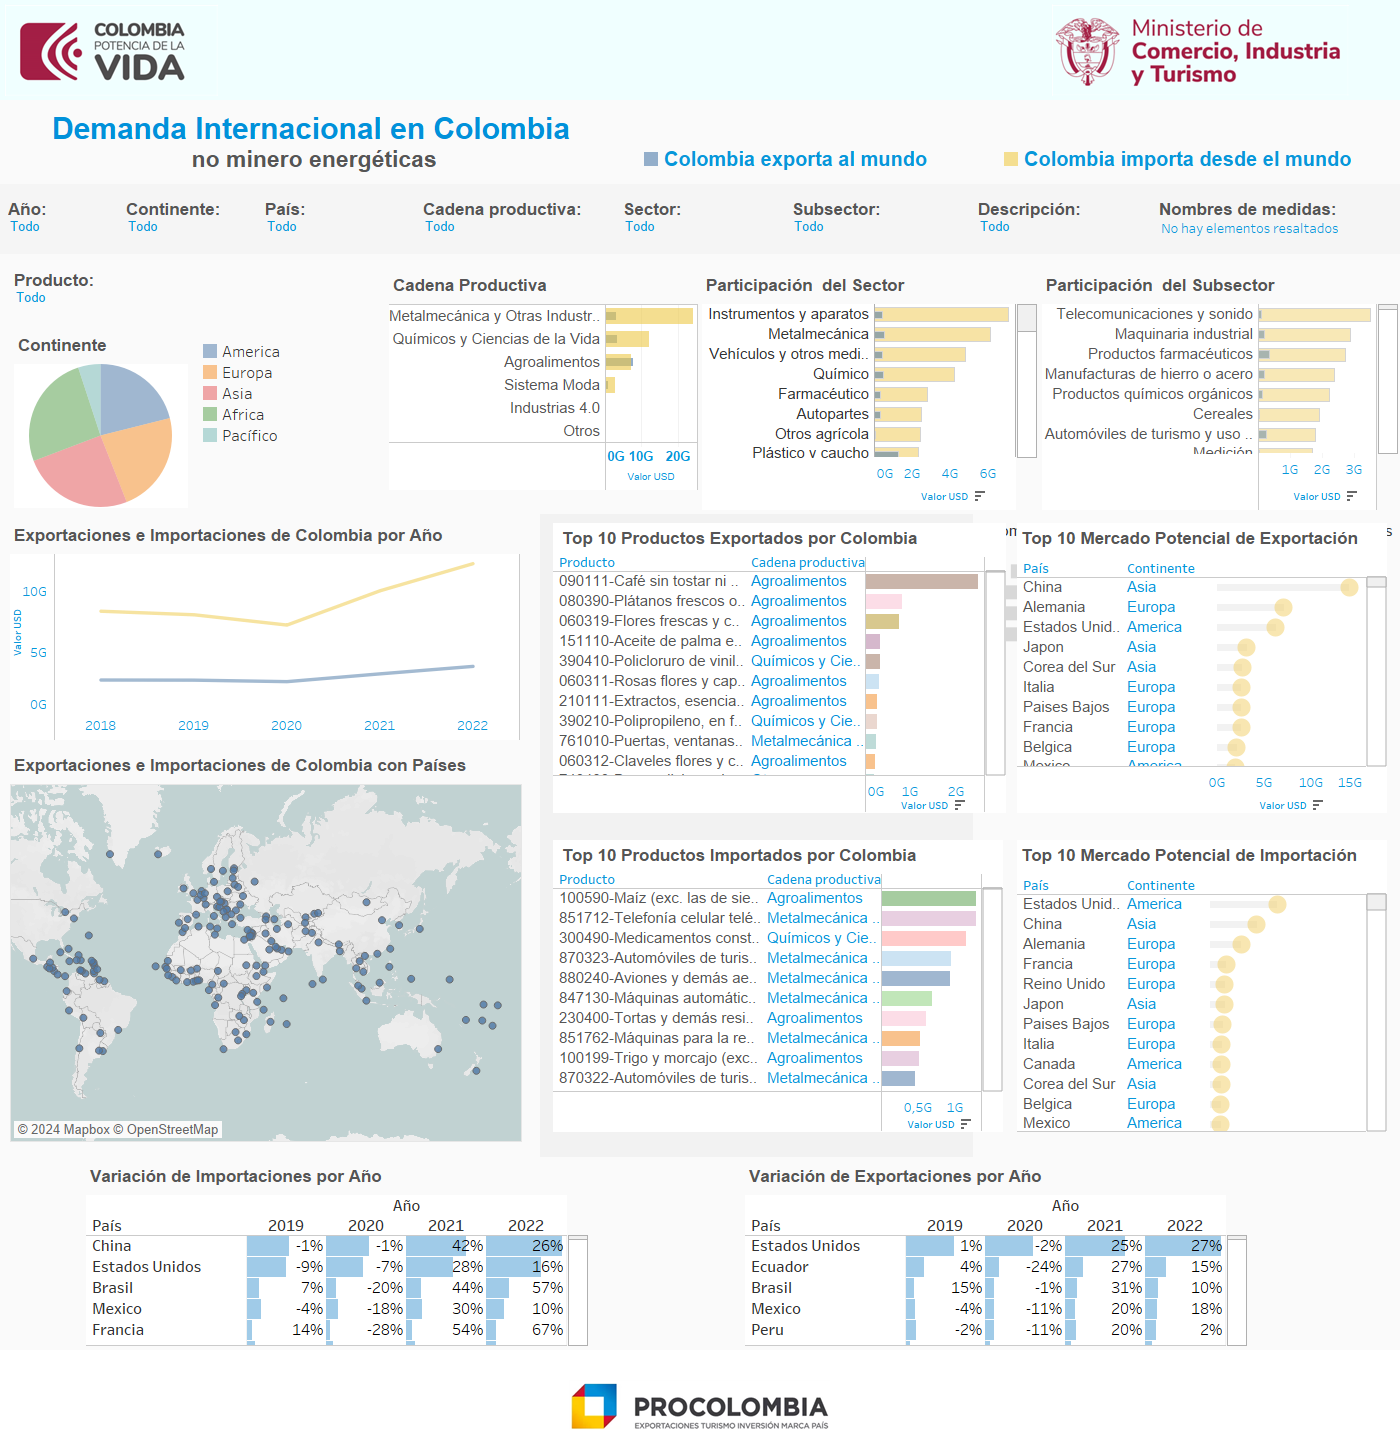

What the dashboard file says about the page in this screenshot:
{"tool":"tableau","page":{"name":"DashM","canvas":[1400,1450],"ordinal":1},"visuals":[{"type":"image","param":"C:/Users/USUARIO/Documents/VIU/Practica/pruebaFinal/colombia.png","box":[0,0,353,100]},{"type":"blank","box":[353,0,694,100]},{"type":"image","param":"C:/Users/USUARIO/Documents/VIU/Practica/pruebaFinal/ministerio.png","box":[1047,0,353,100]},{"type":"text","box":[0,100,622,84]},{"type":"blank","box":[622,100,778,84]},{"type":"legend","title":"C1","param":"[federated.1h23jsf09sjkg71cqdwli18v2dnu].[:Measure Names]","box":[640,128,731,55]},{"type":"blank","box":[0,184,1400,70]},{"type":"filter","title":"C1","param":"[federated.1h23jsf09sjkg71cqdwli18v2dnu].[none:años:nk]","box":[4,199,130,53]},{"type":"filter","title":"C1","param":"[federated.1h23jsf09sjkg71cqdwli18v2dnu].[none:continent:nk]","box":[137,199,144,52]},{"type":"filter","title":"M1","param":"[federated.1h23jsf09sjkg71cqdwli18v2dnu].[none:país:nk]","box":[285,199,160,52]},{"type":"filter","title":"M1","param":"[federated.1h23jsf09sjkg71cqdwli18v2dnu].[none:Cadena productiva:nk]","box":[447,199,205,52]},{"type":"filter","title":"C1","param":"[federated.1h23jsf09sjkg71cqdwli18v2dnu].[none:Sector:nk]","box":[658,199,218,52]},{"type":"filter","title":"C1","param":"[federated.1h23jsf09sjkg71cqdwli18v2dnu].[none:Subsector:nk]","box":[892,199,178,52]},{"type":"filter","title":"C1","param":"[federated.1h23jsf09sjkg71cqdwli18v2dnu].[none:descripción:nk]","box":[1101,199,293,52]},{"type":"blank","box":[0,254,1400,260]},{"type":"filter","title":"C1","param":"[federated.1h23jsf09sjkg71cqdwli18v2dnu].[none:Calculation_955607609905803264:nk","box":[5,260,337,49]},{"type":"worksheet","title":"C1","mark":"Bar","rows":["Cadena productiva"],"cols":["País exporta hacia el mundo","País Importa desde el mundo"],"box":[389,270,309,221]},{"type":"worksheet","title":"W1","mark":"Bar","rows":["Sector"],"cols":["País Importa desde el mundo","País exporta hacia el mundo"],"box":[702,270,335,241]},{"type":"worksheet","title":"S1","mark":"Bar","rows":["Subsector"],"cols":["País Importa desde el mundo","País exporta hacia el mundo"],"box":[1042,270,356,241]},{"type":"worksheet","title":"V1","mark":"Pie","box":[10,323,173,195]},{"type":"legend","title":"V1","param":"[federated.1h23jsf09sjkg71cqdwli18v2dnu].[none:continent:nk]","box":[199,359,98,119]},{"type":"blank","box":[0,514,540,597]},{"type":"blank","box":[540,514,860,597]},{"type":"worksheet","title":"T3","mark":"Automatic","rows":["Calculation_955607609905803264","Cadena productiva"],"cols":["País exporta hacia el mundo"],"box":[552,518,453,290]},{"type":"worksheet","title":"E3","mark":"Circle","rows":["país","continent"],"cols":["País exporta hacia el mundo","País exporta hacia el mundo"],"box":[1017,518,370,291]},{"type":"worksheet","title":"F1","mark":"Line","rows":["País exporta hacia el mundo","País Importa desde el mundo"],"cols":["años"],"box":[10,520,510,221]},{"type":"worksheet","title":"M1","mark":"Multipolygon","rows":["lat"],"cols":["lon"],"box":[10,750,512,349]},{"type":"worksheet","title":"T4","mark":"Automatic","rows":["Calculation_955607609905803264","Cadena productiva"],"cols":["País Importa desde el mundo"],"box":[554,811,450,292]},{"type":"worksheet","title":"E4","mark":"Circle","rows":["país","continent"],"cols":["País Importa desde el mundo","País Importa desde el mundo"],"box":[1016,815,370,292]},{"type":"blank","box":[0,1111,113,232]},{"type":"worksheet","title":"MI1","mark":"Bar","rows":["país"],"cols":["años"],"box":[113,1111,615,232]},{"type":"worksheet","title":"ME1","mark":"Bar","rows":["país"],"cols":["años"],"box":[728,1111,537,232]},{"type":"blank","box":[0,1343,1400,26]},{"type":"image","param":"C:/Users/USUARIO/Documents/VIU/Practica/pruebaFinal/procolombia.png","box":[0,1369,1400,59]},{"type":"blank","box":[0,1428,1400,15]}]}

Visuals, with their boxes in screenshot pixels (x1, y1, x2, y2), scaled from the page's 1400x1450 canvas onto the 1400x1450 screenshot:
image: 0/0/353/100
blank: 353/0/1047/100
image: 1047/0/1399/100
text: 0/100/622/184
blank: 622/100/1399/184
"C1" legend: 640/128/1371/183
blank: 0/184/1399/254
"C1" filter: 4/199/134/252
"C1" filter: 137/199/281/251
"M1" filter: 285/199/445/251
"M1" filter: 447/199/652/251
"C1" filter: 658/199/876/251
"C1" filter: 892/199/1070/251
"C1" filter: 1101/199/1394/251
blank: 0/254/1399/514
"C1" filter: 5/260/342/309
"C1" worksheet (Bar marks): 389/270/698/491
"W1" worksheet (Bar marks): 702/270/1037/511
"S1" worksheet (Bar marks): 1042/270/1398/511
"V1" worksheet (Pie marks): 10/323/183/518
"V1" legend: 199/359/297/478
blank: 0/514/540/1111
blank: 540/514/1399/1111
"T3" worksheet: 552/518/1005/808
"E3" worksheet (Circle marks): 1017/518/1387/809
"F1" worksheet (Line marks): 10/520/520/741
"M1" worksheet (Multipolygon marks): 10/750/522/1099
"T4" worksheet: 554/811/1004/1103
"E4" worksheet (Circle marks): 1016/815/1386/1107
blank: 0/1111/113/1343
"MI1" worksheet (Bar marks): 113/1111/728/1343
"ME1" worksheet (Bar marks): 728/1111/1265/1343
blank: 0/1343/1399/1369
image: 0/1369/1399/1428
blank: 0/1428/1399/1443
